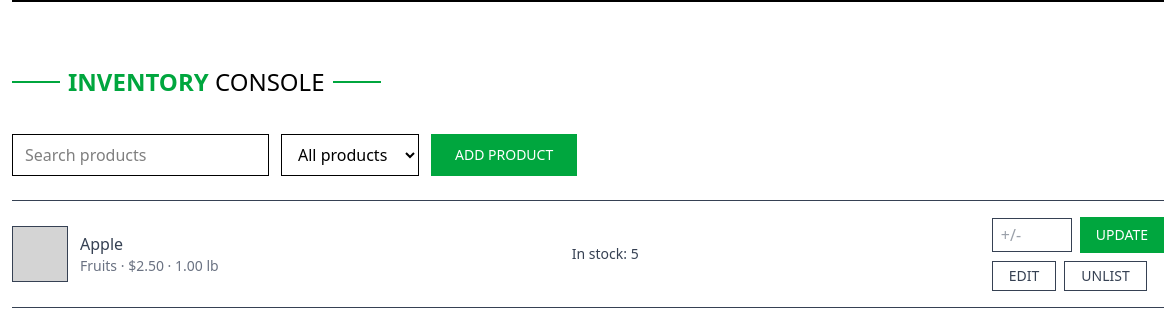
Inventory › adding stock sends the change and shows the new amount
Expected: the text "Apple" is shown, top-left (80, 233), bottom-right (123, 255)
Type "10" into the number field named "Change stock of Apple" at [1032, 235], box top-left (992, 218), bottom-right (1072, 252)
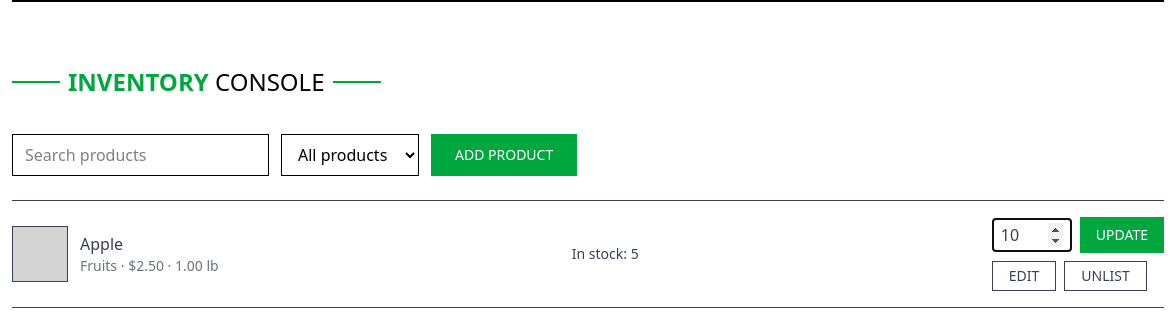
Click the button "UPDATE" at [1122, 235], box top-left (1080, 217), bottom-right (1164, 253)
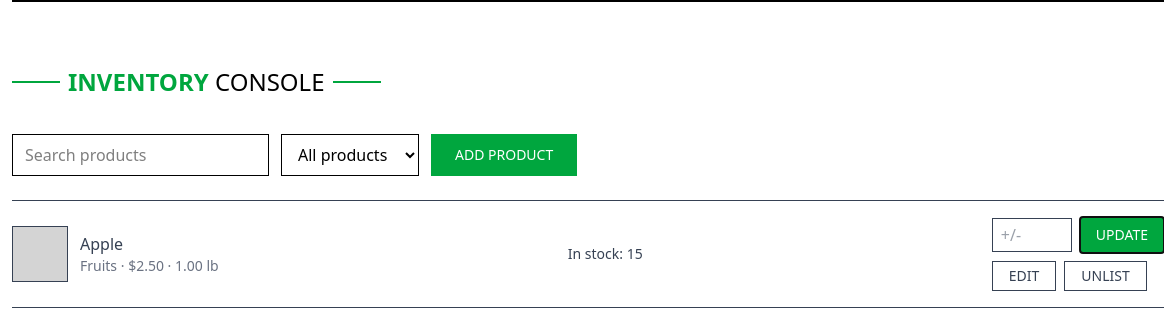
Result: the text "15" is shown at top-left (627, 244), bottom-right (643, 263)
